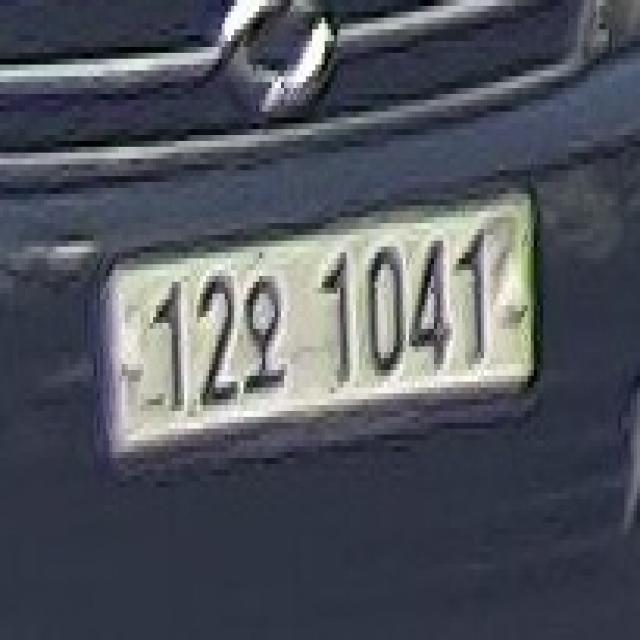0: (359, 235, 409, 387)
1: (456, 223, 496, 376), (153, 270, 190, 423), (318, 246, 356, 394)
2: (197, 264, 240, 423)
4: (412, 235, 456, 382)
license_plate: (94, 176, 543, 511)
o: (244, 264, 294, 405)
